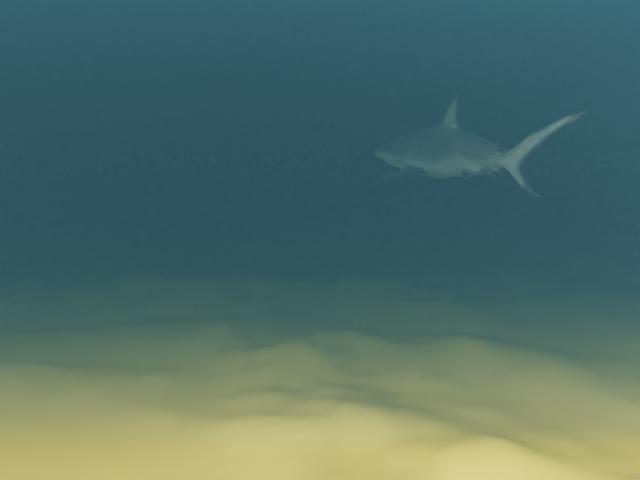Carribean Shark.001: (374, 94, 588, 197)
